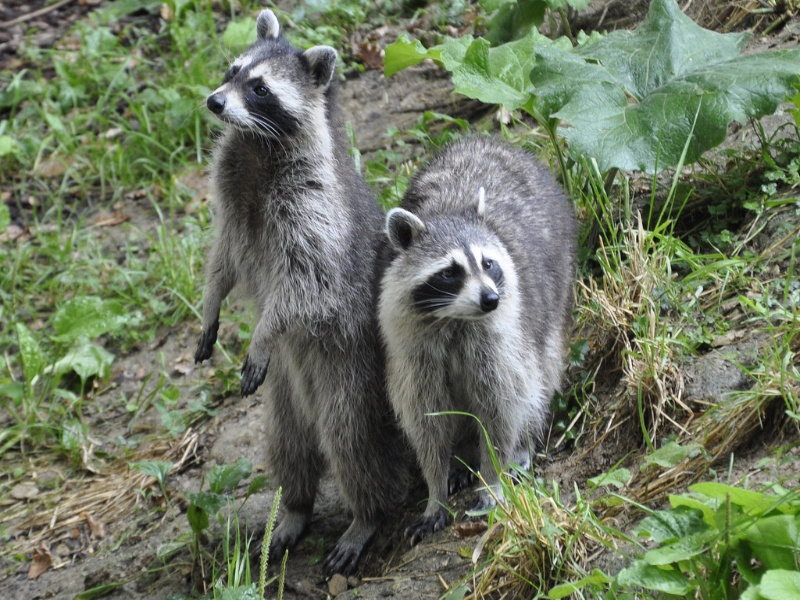raccoon: (183, 5, 413, 579), (372, 133, 572, 534)
